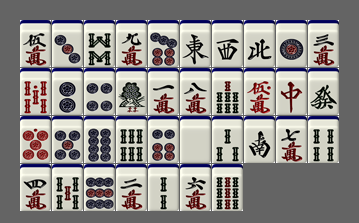0m: (244, 68, 275, 115)
0p: (20, 116, 51, 163)
0s: (20, 68, 51, 115)
1m: (148, 68, 179, 115)
1p: (276, 20, 307, 67)
1s: (116, 68, 147, 115)
1z: (180, 20, 211, 67)
2m: (116, 164, 147, 211)
2p: (52, 68, 83, 115)
2s: (148, 164, 179, 211)
2z: (244, 116, 275, 163)
3m: (308, 20, 339, 67)
3p: (52, 20, 83, 67)
3s: (212, 116, 243, 163)
3z: (212, 20, 243, 67)
4m: (20, 164, 51, 211)
4p: (84, 68, 115, 115)
4s: (308, 116, 339, 163)
4z: (244, 20, 275, 67)
5m: (20, 20, 51, 67)
5p: (52, 116, 83, 163)
5s: (52, 164, 83, 211)
5z: (180, 116, 211, 163)
6m: (180, 164, 211, 211)
6p: (148, 116, 179, 163)
6s: (116, 116, 147, 163)
6z: (308, 68, 339, 115)
7m: (276, 116, 307, 163)
7p: (148, 20, 179, 67)
7s: (212, 68, 243, 115)
7z: (276, 68, 307, 115)
8m: (180, 68, 211, 115)
8p: (84, 116, 115, 163)
8s: (84, 20, 115, 67)
9m: (116, 20, 147, 67)
9p: (84, 164, 115, 211)
9s: (212, 164, 243, 211)
